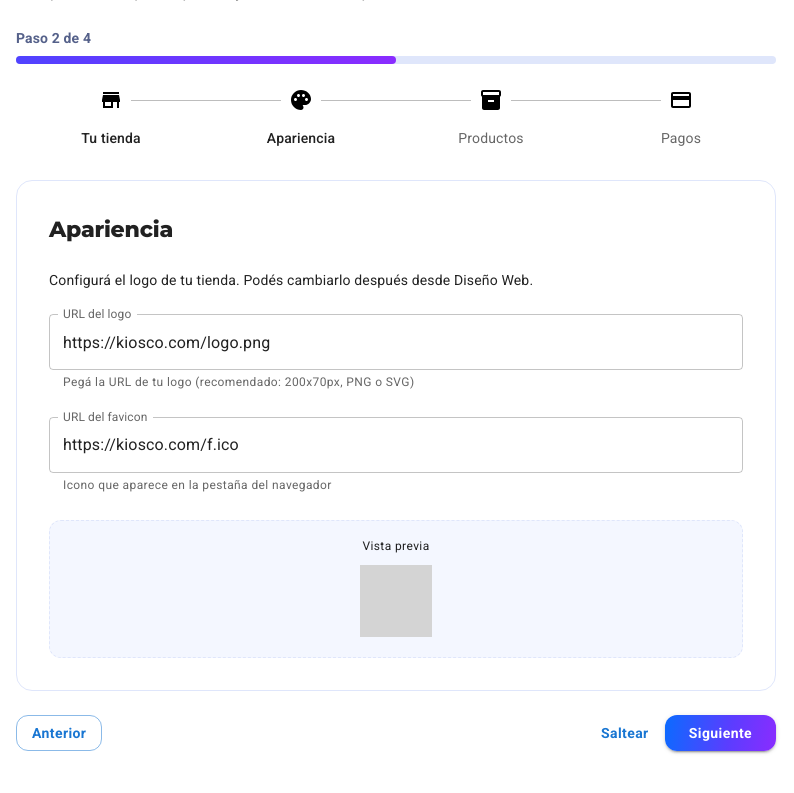
Test: Onboarding · paso «Apariencia» › «Anterior» vuelve al paso de la tienda sin guardar nada
This screenshot has width=794, height=793.
(page scrolled)
Step 1. Click the button "Anterior" → coordinates (59, 733), box [16,715,102,751]
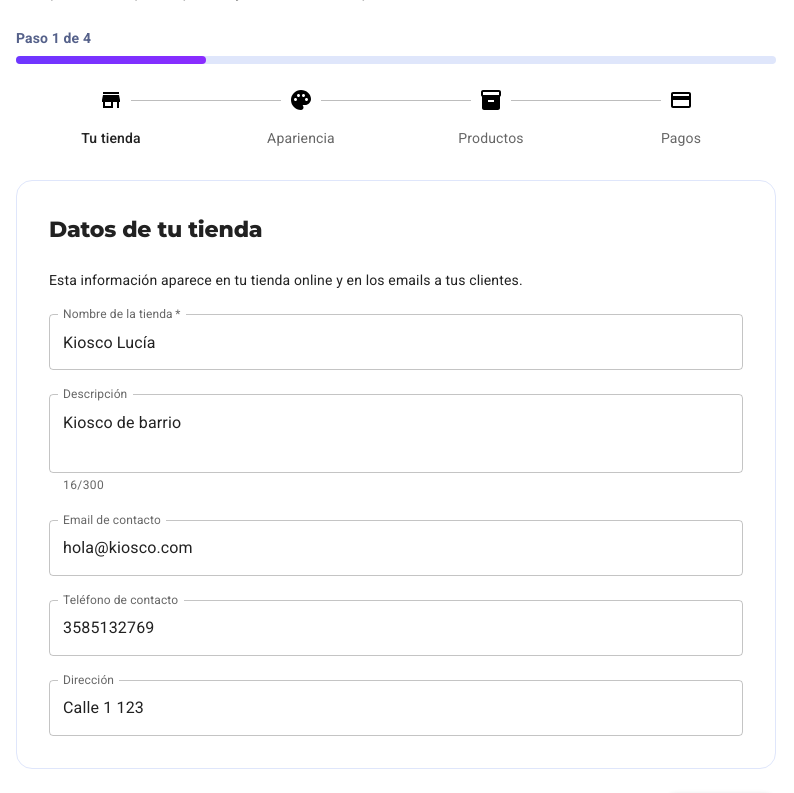
Expected: the heading "Datos de tu tienda" is shown, [49,216,262,243]
